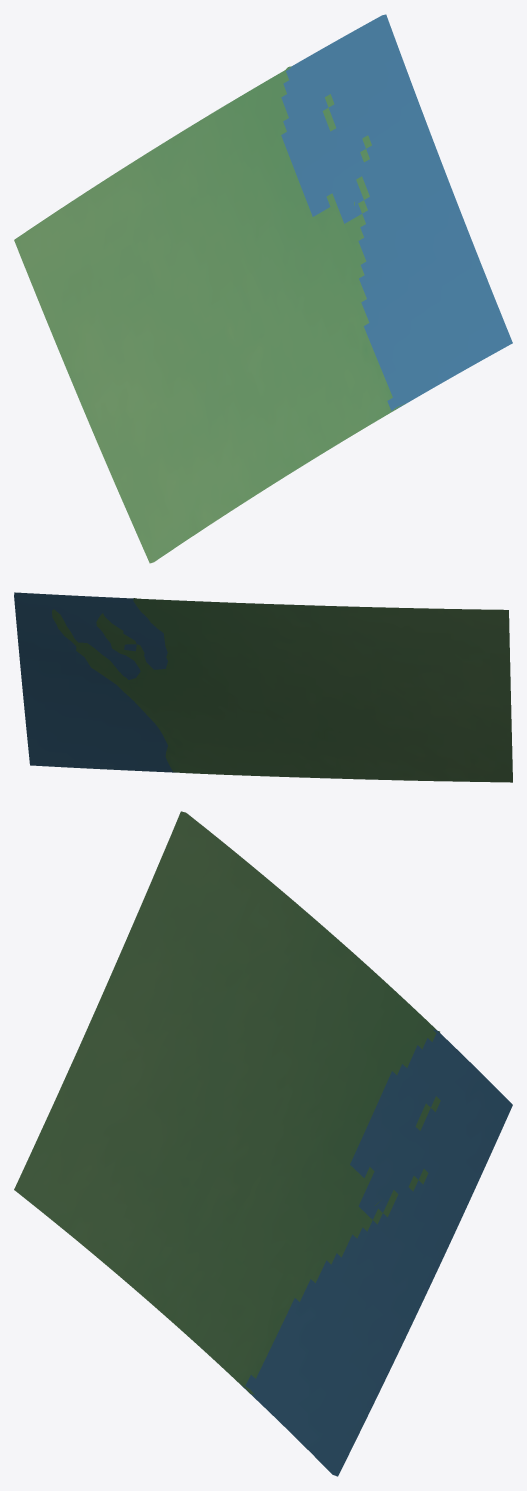
The picture shows the model from 3 angles, top to bottom: view 1: azimuth 30°, elevation 25°; view 2: azimuth 150°, elevation 25°; view 3: azimuth 270°, elevation 25°; orthographic projection. The views are drawn at different scales.
Visible parts, largest first — view 1: geometry_0, geometry_1; view 2: geometry_0, geometry_1; view 3: geometry_0, geometry_1.
Part boxes in pixels (box(x1,y1,x2,y2)): geometry_0: box(14, 66, 405, 563); geometry_1: box(281, 14, 512, 410); geometry_0: box(52, 598, 512, 782); geometry_1: box(14, 592, 175, 772); geometry_0: box(14, 811, 440, 1394); geometry_1: box(241, 1029, 512, 1476).
Bounding box in the file's own units: 567280 × 281623 × 369060.
